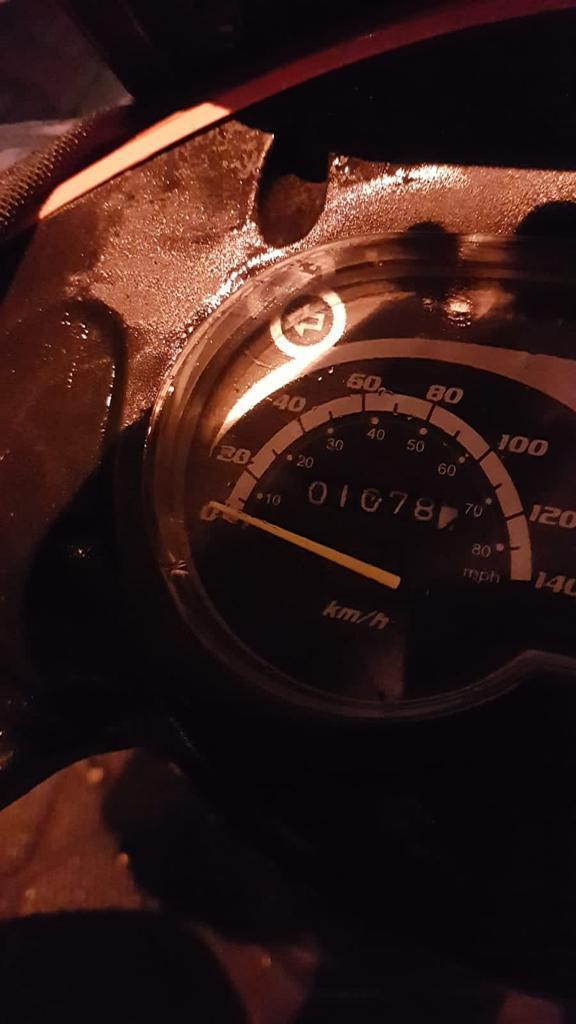0: (358, 487, 381, 516), (305, 479, 328, 507)
1: (338, 482, 348, 507)
4: (437, 511, 460, 536)
7: (388, 489, 408, 514)
8: (413, 495, 434, 521)
odometer: (297, 472, 464, 542)
